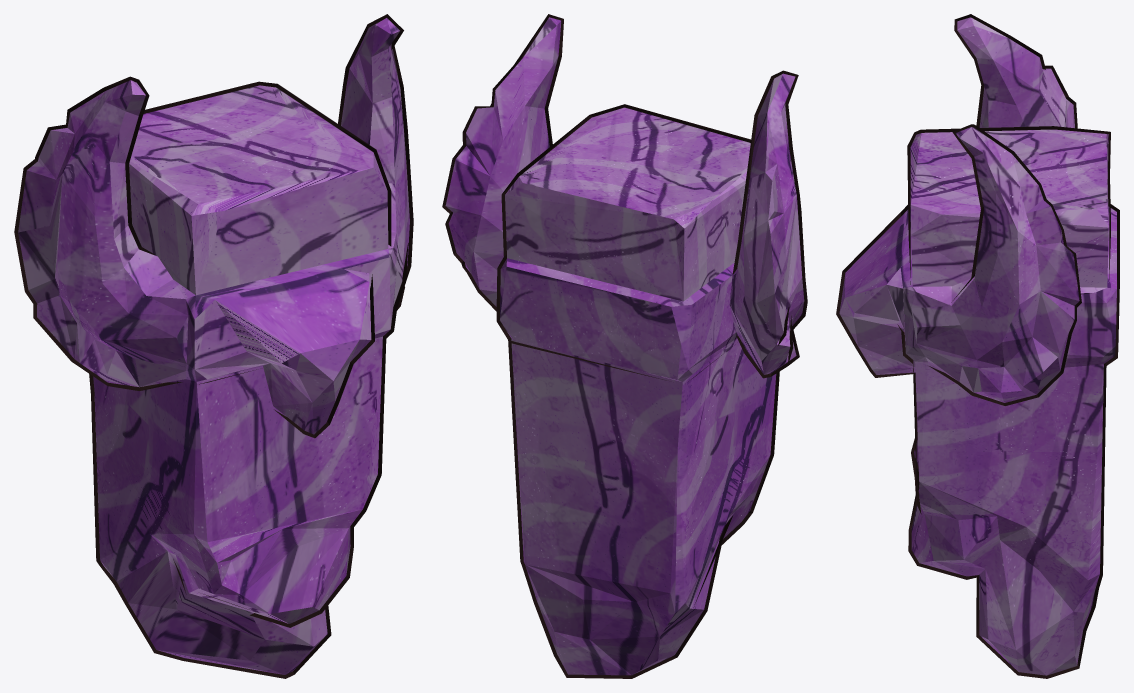
The model's file is mesh_ruins_01.fbx.
3 renders of one model, left to right at view 1: azimuth 30°, elevation 25°; view 2: azimuth 150°, elevation 25°; view 3: azimuth 270°, elevation 25°, orthographic. The views are drawn at different scales.
Parts seen in each view (by area): view 1: mesh_ruins_01; view 2: mesh_ruins_01; view 3: mesh_ruins_01.
Part boxes in pixels (x1,y1,x2,y2): mesh_ruins_01: (14,14,413,678); mesh_ruins_01: (442,14,807,678); mesh_ruins_01: (836,14,1119,678).
Bounding box in the file's own units: 217 × 377 × 167.
Materials: 2 (1 with a texture image).
